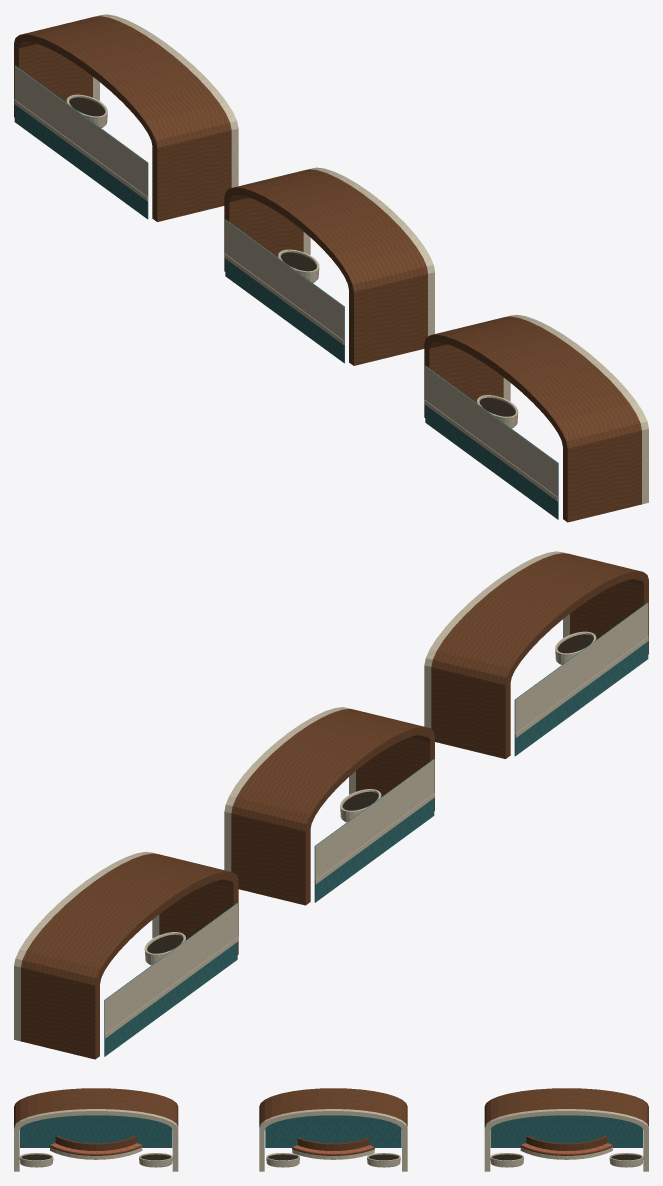
The model's file is AST-AQU-016_pool_loggia.glb.
The picture shows the model from 3 angles, top to bottom: view 1: azimuth 30°, elevation 25°; view 2: azimuth 150°, elevation 25°; view 3: azimuth 270°, elevation 25°; orthographic projection. The views are drawn at different scales.
Visible parts, largest first — view 1: GPA_loggia_BATCH_024_warm_walnut, GPA_loggia_BATCH_020_warm_walnut, GPA_loggia_BATCH_022_warm_walnut, GPA_loggia_BATCH_011_warm_walnut, GPA_loggia_BATCH_016_warm_walnut, GPA_loggia_BATCH_006_warm_walnut, GPA_loggia_BATCH_019_warm_stone, GPA_loggia_BATCH_023_warm_stone, GPA_loggia_BATCH_021_warm_stone, GPA_loggia_BATCH_003_aquatic_edge_tile, GPA_loggia_BATCH_001_warm_walnut, GPA_loggia_BATCH_013_aquatic_edge_tile (+4 smaller); view 2: GPA_loggia_BATCH_024_warm_walnut, GPA_loggia_BATCH_020_warm_walnut, GPA_loggia_BATCH_022_warm_walnut, GPA_loggia_BATCH_016_warm_walnut, GPA_loggia_BATCH_011_warm_walnut, GPA_loggia_BATCH_001_warm_walnut, GPA_loggia_BATCH_023_warm_stone, GPA_loggia_BATCH_019_warm_stone, GPA_loggia_BATCH_021_warm_stone, GPA_loggia_BATCH_013_aquatic_edge_tile, GPA_loggia_BATCH_006_warm_walnut, GPA_loggia_BATCH_003_aquatic_edge_tile (+4 smaller); view 3: GPA_loggia_BATCH_003_aquatic_edge_tile, GPA_loggia_BATCH_013_aquatic_edge_tile, GPA_loggia_BATCH_008_aquatic_edge_tile, GPA_loggia_BATCH_024_warm_walnut, GPA_loggia_BATCH_020_warm_walnut, GPA_loggia_BATCH_022_warm_walnut, GPA_loggia_BATCH_015_warm_stone, GPA_loggia_BATCH_010_warm_stone, GPA_loggia_BATCH_005_warm_stone, GPA_loggia_BATCH_023_warm_stone, GPA_loggia_BATCH_019_warm_stone, GPA_loggia_BATCH_021_warm_stone (+10 smaller).
Boxes of the visible parts, <box> form: GPA_loggia_BATCH_024_warm_walnut: <box>424,316,641,448</box>; GPA_loggia_BATCH_020_warm_walnut: <box>15,16,231,148</box>; GPA_loggia_BATCH_022_warm_walnut: <box>224,169,427,291</box>; GPA_loggia_BATCH_011_warm_walnut: <box>224,197,427,365</box>; GPA_loggia_BATCH_016_warm_walnut: <box>424,344,641,522</box>; GPA_loggia_BATCH_006_warm_walnut: <box>152,130,231,221</box>; GPA_loggia_BATCH_019_warm_stone: <box>14,14,238,196</box>; GPA_loggia_BATCH_023_warm_stone: <box>425,314,648,496</box>; GPA_loggia_BATCH_021_warm_stone: <box>225,167,434,340</box>; GPA_loggia_BATCH_003_aquatic_edge_tile: <box>14,65,148,219</box>; GPA_loggia_BATCH_001_warm_walnut: <box>14,44,92,117</box>; GPA_loggia_BATCH_013_aquatic_edge_tile: <box>425,366,558,519</box>; GPA_loggia_BATCH_024_warm_walnut: <box>431,553,648,685</box>; GPA_loggia_BATCH_020_warm_walnut: <box>22,853,238,978</box>; GPA_loggia_BATCH_022_warm_walnut: <box>231,709,434,831</box>; GPA_loggia_BATCH_016_warm_walnut: <box>431,581,648,758</box>; GPA_loggia_BATCH_011_warm_walnut: <box>231,737,434,905</box>; GPA_loggia_BATCH_001_warm_walnut: <box>21,967,99,1059</box>; GPA_loggia_BATCH_023_warm_stone: <box>424,551,648,733</box>; GPA_loggia_BATCH_019_warm_stone: <box>15,851,237,1033</box>; GPA_loggia_BATCH_021_warm_stone: <box>224,707,434,879</box>; GPA_loggia_BATCH_013_aquatic_edge_tile: <box>514,602,648,756</box>; GPA_loggia_BATCH_006_warm_walnut: <box>159,881,238,954</box>; GPA_loggia_BATCH_003_aquatic_edge_tile: <box>104,903,237,1056</box>; GPA_loggia_BATCH_003_aquatic_edge_tile: <box>490,1115,642,1147</box>; GPA_loggia_BATCH_013_aquatic_edge_tile: <box>20,1115,172,1147</box>; GPA_loggia_BATCH_008_aquatic_edge_tile: <box>265,1115,401,1147</box>; GPA_loggia_BATCH_024_warm_walnut: <box>14,1088,178,1126</box>; GPA_loggia_BATCH_020_warm_walnut: <box>484,1088,647,1126</box>; GPA_loggia_BATCH_022_warm_walnut: <box>259,1088,407,1126</box>; GPA_loggia_BATCH_015_warm_stone: <box>14,1129,178,1171</box>; GPA_loggia_BATCH_010_warm_stone: <box>259,1129,407,1171</box>; GPA_loggia_BATCH_005_warm_stone: <box>484,1129,643,1171</box>; GPA_loggia_BATCH_023_warm_stone: <box>14,1109,178,1130</box>; GPA_loggia_BATCH_019_warm_stone: <box>484,1109,647,1130</box>; GPA_loggia_BATCH_021_warm_stone: <box>259,1109,407,1130</box>.
Size of the model in its own units: 4.31 by 5.07 by 47.9.
Materials: 5 (5 with a texture image).
